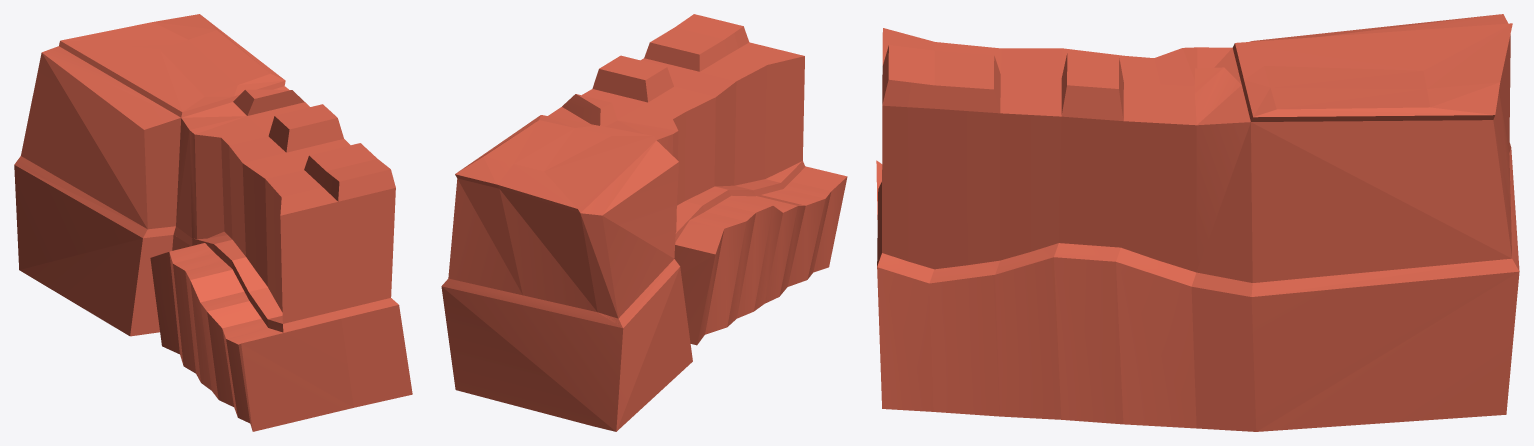
Rendered from Roca4.fbx.
The picture shows the model from 3 angles, left to right: view 1: azimuth 30°, elevation 25°; view 2: azimuth 150°, elevation 25°; view 3: azimuth 270°, elevation 25°; orthographic projection. The views are drawn at different scales.
Parts seen in each view (by area): view 1: Cube.006; view 2: Cube.006; view 3: Cube.006.
Part boxes in pixels (x1,y1,x2,y2): Cube.006: (14, 14, 412, 431); Cube.006: (441, 14, 847, 431); Cube.006: (876, 14, 1519, 431).
Bounding box in the file's own units: 1916 × 2115 × 3825.
